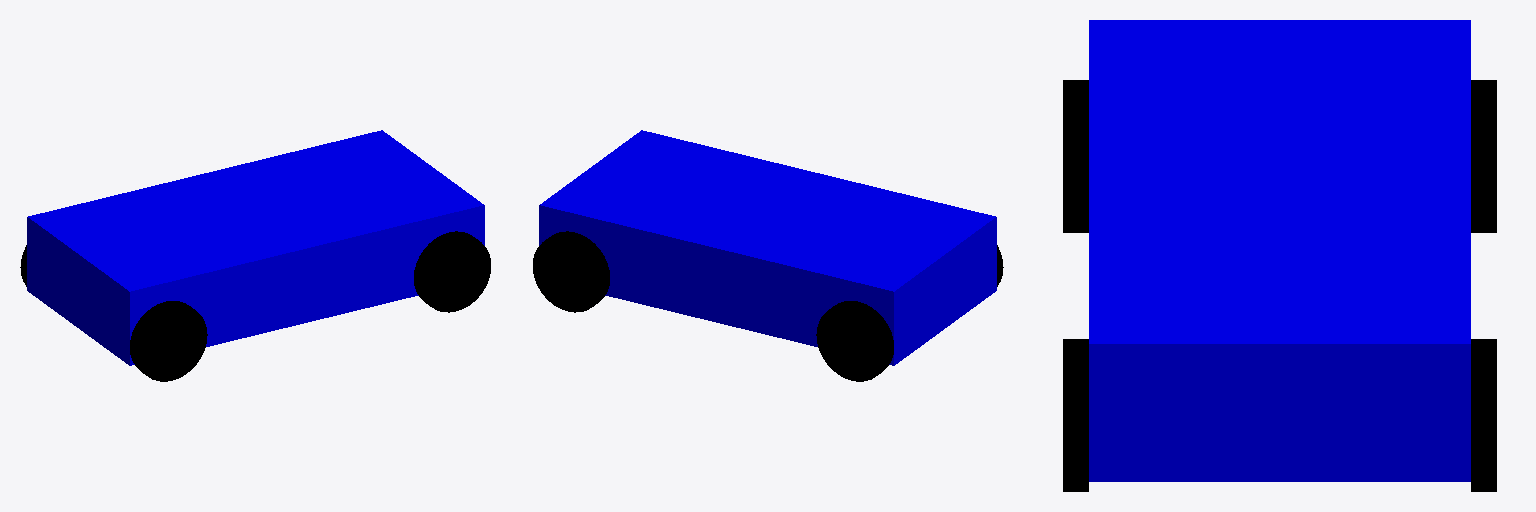
URDF robot description (simple_car):
<?xml version="1.0"?>
<robot name="simple_car">
    <link name="world"/>

    <joint name='fixed' type='fixed'>
        <parent link="world"/>
        <child link="base_link"/>
    </joint>
    <!-- Base link -->
    <link name = "base_link">
        <visual>
            <geometry>
                <box size = "1.5 0.75 0.3"/> 
            </geometry>
            <origin xyz="0 0 0.15"/>
            <material name="blue">
                <color rgba="0 0 1 1"/>
            </material>
        </visual>
    </link>

    <joint name="joint_front_left" type="fixed">
        <parent link="base_link"/>
        <child link="wheel_front_left" />
        <origin xyz="0.6 0.4 0.075" rpy="0 0 0"/>
        <axis xyz="0 1 0"/>
    </joint>

    <link name="wheel_front_left">
        <visual>
            <geometry>
                <cylinder radius="0.15" length="0.05"/>
            </geometry>
            <origin xyz="0 0 0" rpy="1.5708 0 0"/>
            <material name="black">
                <color rgba="0 0 0 1"/>
            </material>
        </visual>
    </link>

    <joint name="joint_front_right" type="fixed">
        <parent link="base_link"/>
        <child link="wheel_front_right" />
        <origin xyz="0.6 -0.4 0.075" rpy="0 0 0"/>
        <axis xyz="0 1 0"/>
    </joint>

    <link name="wheel_front_right">
        <visual>
            <geometry>
                <cylinder radius="0.15" length="0.05"/>
            </geometry>
            <origin xyz="0 0 0" rpy="1.5708 0 0"/>
            <material name="black">
                <color rgba="0 0 0 1"/>
            </material>
        </visual>
    </link>

    <joint name="joint_rear_left" type="fixed">
        <parent link="base_link"/>
        <child link="wheel_rear_left" />
        <origin xyz="-0.6 0.4 0.075" rpy="0 0 0"/>
        <axis xyz="0 1 0"/>
    </joint>

    <link name="wheel_rear_left">
        <visual>
            <geometry>
                <cylinder radius="0.15" length="0.05"/>
            </geometry>
            <origin xyz="0 0 0" rpy="1.5708 0 0"/>
            <material name="black">
                <color rgba="0 0 0 1"/>
            </material>
        </visual>
    </link>

    <joint name="joint_rear_right" type="fixed">
        <parent link="base_link"/>
        <child link="wheel_rear_right" />
        <origin xyz="-0.6 -0.4 0.075" rpy="0 0 0"/>
        <axis xyz="0 1 0"/>
    </joint>

    <link name="wheel_rear_right">
        <visual>
            <geometry>
                <cylinder radius="0.15" length="0.05"/>
            </geometry>
            <origin xyz="0 0 0" rpy="1.5708 0 0"/>
            <material name="black">
                <color rgba="0 0 0 1"/>
            </material>
        </visual>
    </link>
</robot>

--- Facts derived from the render (not from the file) ---
3 views of the same robot in one strip: view 1: azimuth 30°, elevation 25°; view 2: azimuth 150°, elevation 25°; view 3: azimuth 270°, elevation 25° (orthographic).
Robot: simple_car — 6 links, 5 joints (5 fixed); root link world; default pose: every joint at zero.
Visible links, largest first — view 1: base_link, wheel_rear_right, wheel_front_right; view 2: base_link, wheel_rear_left, wheel_front_left; view 3: base_link, wheel_front_left, wheel_front_right, wheel_rear_left, wheel_rear_right.
Boxes of the visible links, box(x1,y1,x2,y2) form: base_link: box(27, 130, 484, 365); wheel_rear_right: box(130, 301, 207, 381); wheel_front_right: box(414, 231, 490, 312); base_link: box(539, 130, 996, 365); wheel_rear_left: box(816, 301, 893, 381); wheel_front_left: box(533, 231, 609, 312); base_link: box(1089, 20, 1470, 481); wheel_front_left: box(1471, 339, 1496, 491); wheel_front_right: box(1063, 339, 1088, 491); wheel_rear_left: box(1471, 80, 1496, 232); wheel_rear_right: box(1063, 80, 1088, 232).
Size in the robot's own frame: 1.5 by 0.85 by 0.375 metres.
Geometry: primitives only (box / cylinder / sphere), no mesh files.